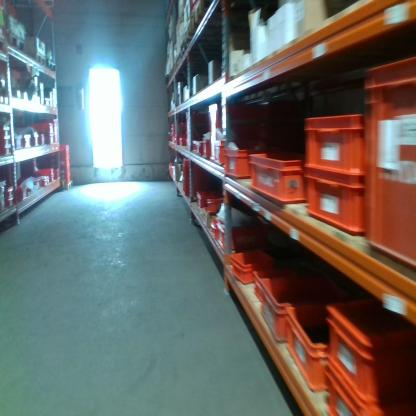pallet: (194, 2, 225, 31), (5, 31, 25, 55), (24, 51, 47, 71), (186, 20, 198, 48), (62, 179, 73, 192)
small_load_carrier: (363, 53, 416, 272), (327, 293, 414, 399), (301, 104, 374, 172), (261, 278, 332, 342), (302, 173, 369, 238), (205, 98, 269, 163), (248, 149, 306, 211), (287, 306, 326, 385), (323, 369, 385, 416), (227, 246, 272, 283), (221, 141, 255, 183), (216, 222, 261, 251), (250, 268, 281, 302), (181, 159, 205, 199), (203, 197, 229, 216), (214, 143, 226, 167), (197, 187, 210, 208), (60, 169, 70, 182), (60, 157, 71, 168), (203, 136, 208, 160), (44, 136, 54, 145)
